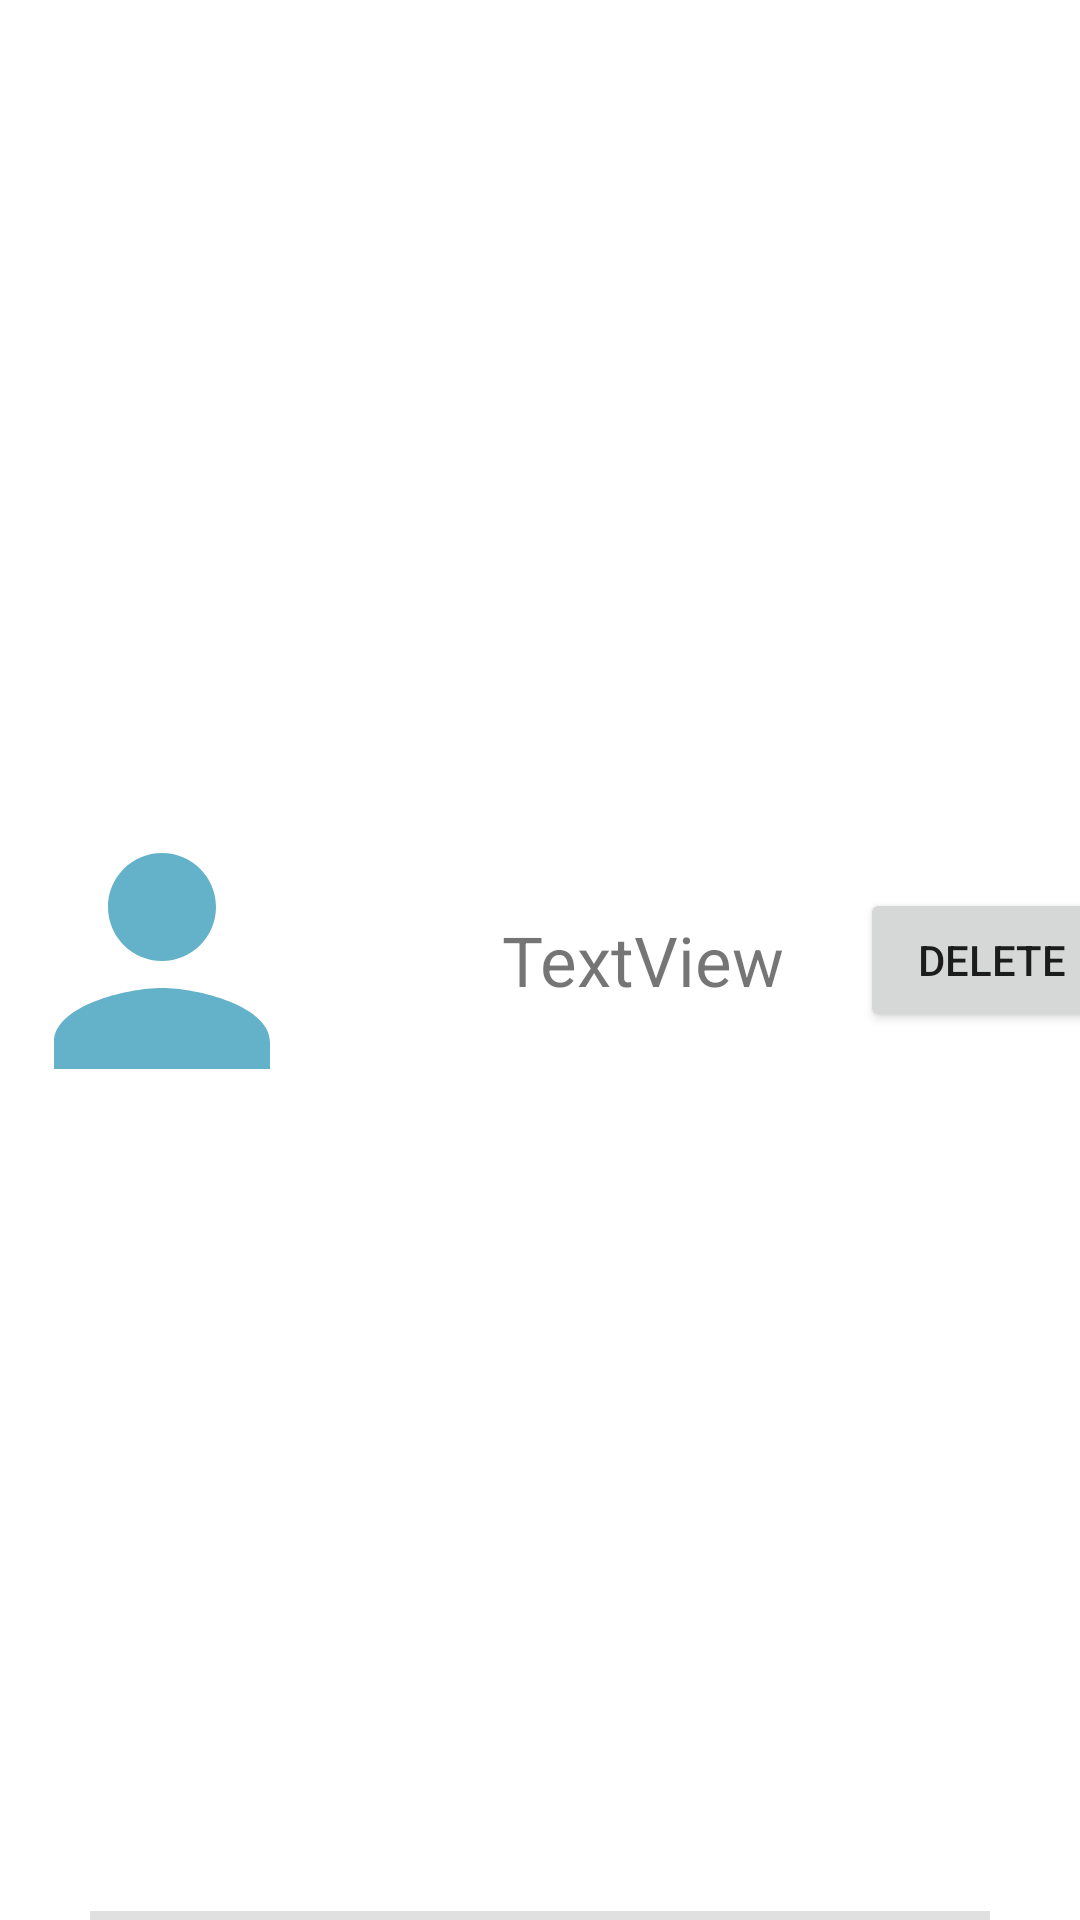

Where to tap for icons on this 1080×1920 app screen, as (x,y):
person: (162,961)
